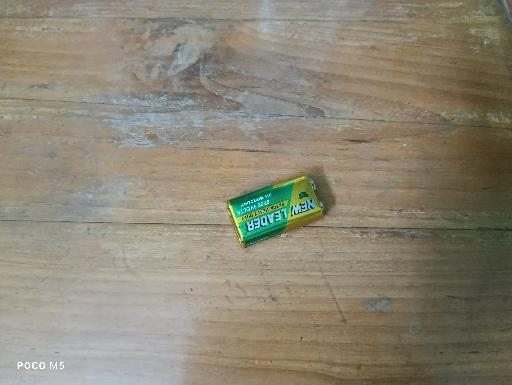Battery: (226, 174, 325, 249)
